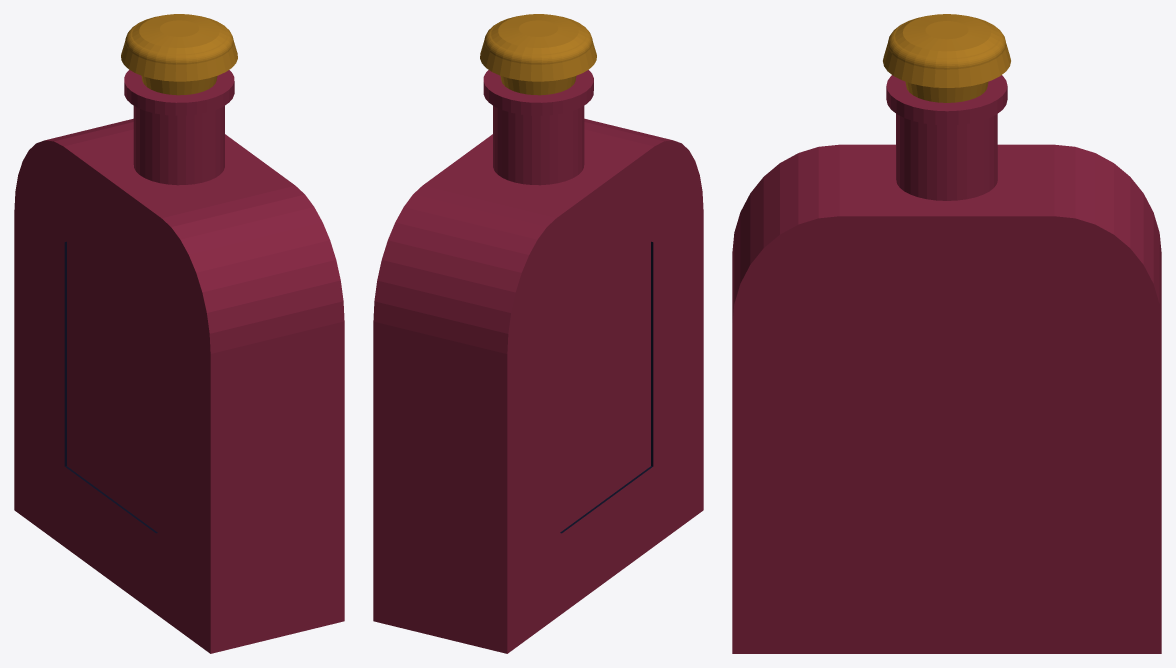
The model's file is flask.glb.
3 renders of one model, left to right at view 1: azimuth 30°, elevation 25°; view 2: azimuth 150°, elevation 25°; view 3: azimuth 270°, elevation 25°, orthographic. The views are drawn at different scales.
Parts seen in each view (by area): view 1: Cube; view 2: Cube; view 3: Cube.
Boxes of the visible parts, x1,y1,x2,y2 form: Cube: (14, 14, 344, 653); Cube: (373, 14, 703, 653); Cube: (732, 14, 1161, 653).
Size of the model in its own units: 0.146 by 0.5509 by 0.3646.
